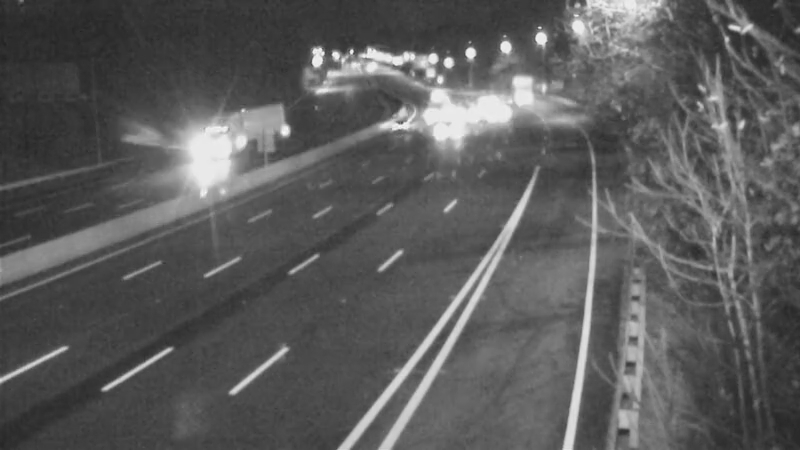vehicle: (495, 65, 545, 115), (459, 77, 509, 127), (415, 71, 465, 121), (467, 89, 517, 139), (438, 87, 488, 137), (427, 102, 477, 152), (373, 100, 423, 150), (213, 117, 263, 167)
